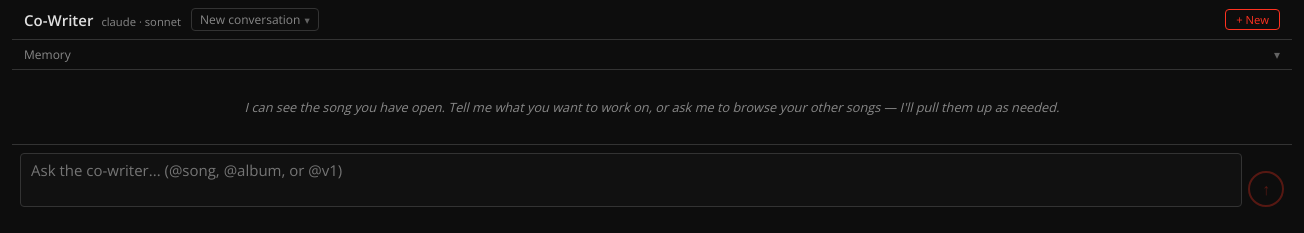
CoWriterPanel failed turns › names a server error frame below the retained user message
Type "write a chorus" into the text box with class "chat-input" at (631, 180), box [20,153,1242,207]
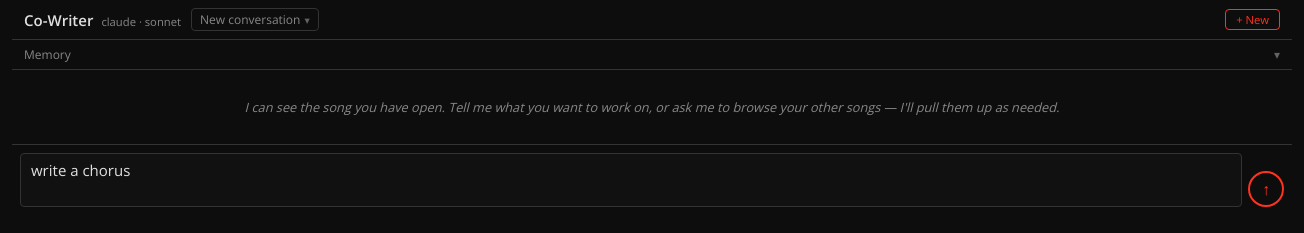
Click the button with class "send-btn" at (1266, 189), box [1248,171,1284,207]
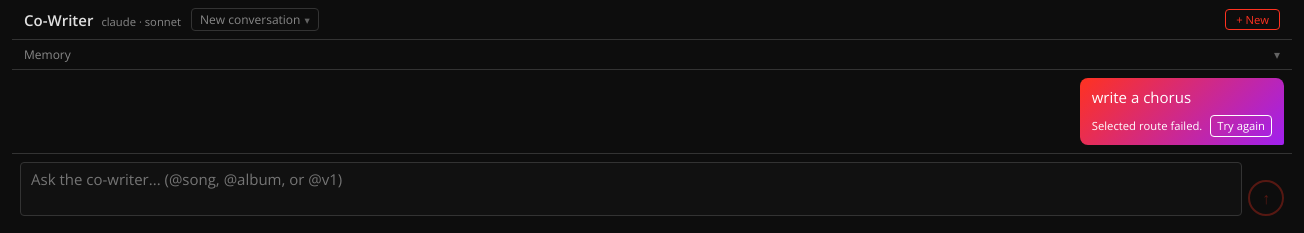
Expected: the message with class "turn-error" shows "Selected route failed.", [1092,118,1202,132]
Expected: the number of elements with class "user" is 1, [1080,78,1284,145]
Expected: the button with class "retry-turn" reads "Try again", [1210,114,1272,137]
